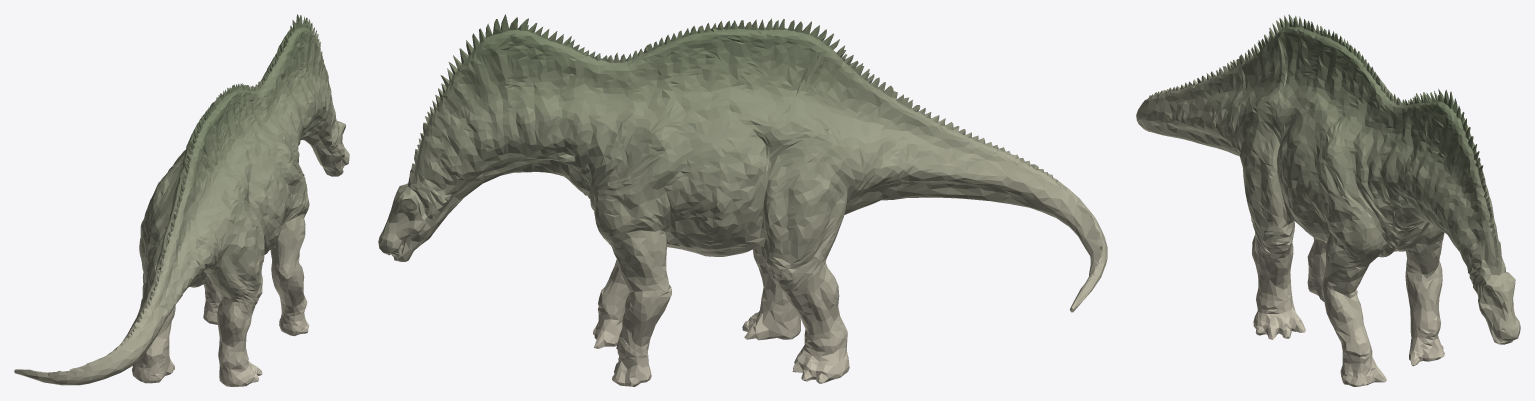
Rendered from amargasaurus.glb.
The picture shows the model from 3 angles, left to right: view 1: azimuth 30°, elevation 25°; view 2: azimuth 150°, elevation 25°; view 3: azimuth 270°, elevation 25°; orthographic projection. The views are drawn at different scales.
Visible parts, largest first — view 1: world; view 2: world; view 3: world.
Boxes of the visible parts, left/top/right/bottom form: world: left=14, top=14, right=349, bottom=386; world: left=378, top=14, right=1107, bottom=386; world: left=1136, top=14, right=1520, bottom=386.
Size of the model in its own units: 13.98 by 8.39 by 9.26.
